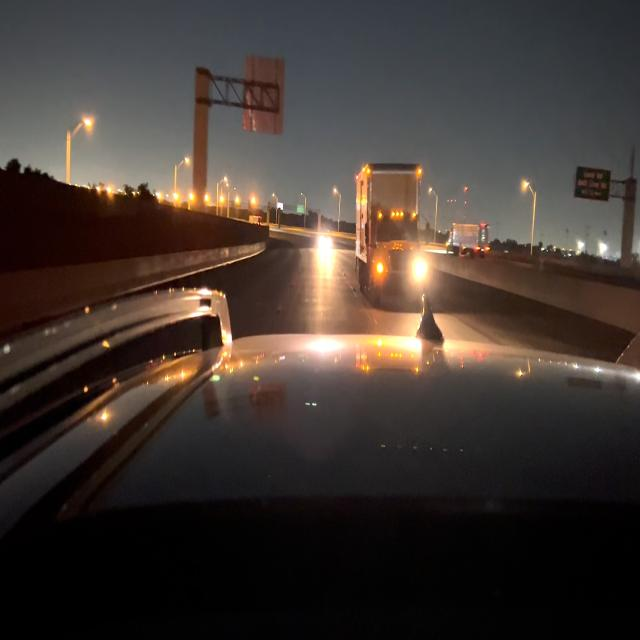back-of-sign: (245, 57, 285, 135)
